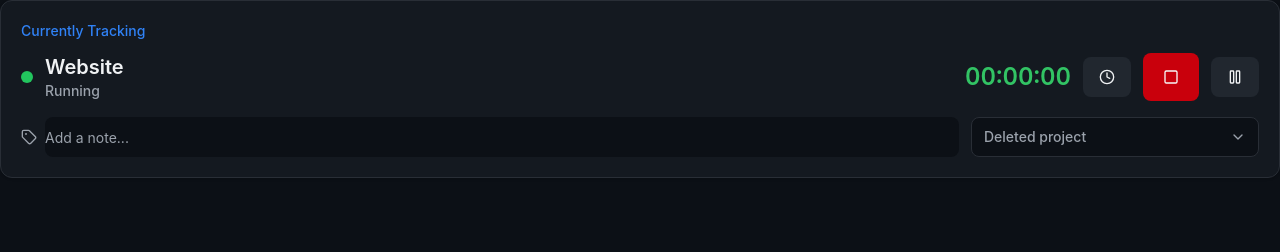
it: CurrentlyTrackingCard – note behaviour › selects the highlighted suggestion with Enter and reopens the list while typing
Type "dai" into the dropdown labelled "Add a note" at point(502, 137), box [45,117,959,157]
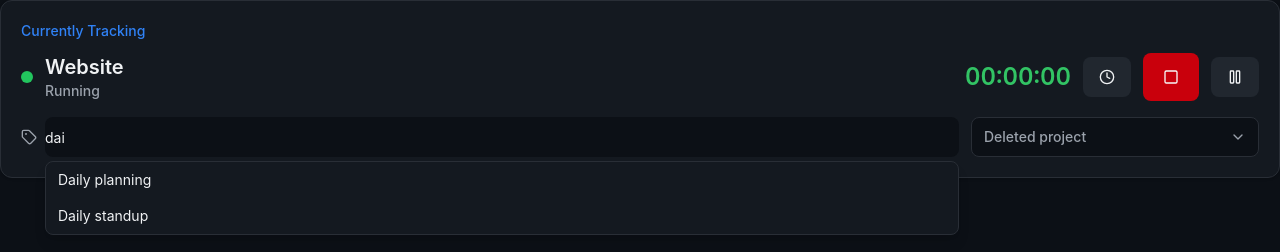
Press Enter in the dropdown named "Add a note", box [45,117,959,157]
Result: the list is shown at [45,161,959,235]
Press ArrowDown in the dropdown named "Add a note", box [45,117,959,157]
Press Enter in the dropdown named "Add a note", box [45,117,959,157]
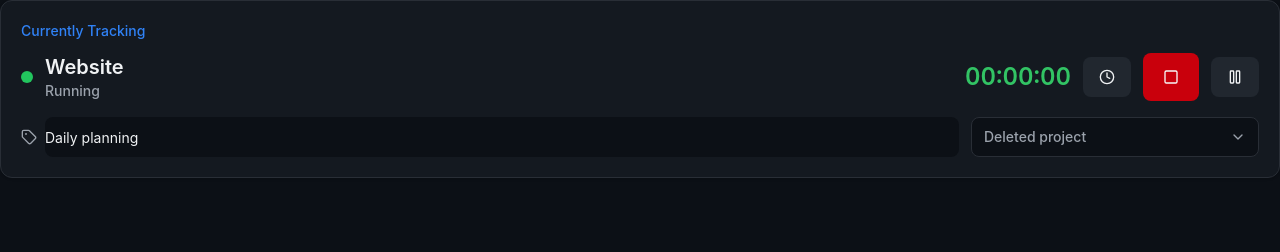
Result: the dropdown named "Add a note" holds "Daily planning"
Result: the list is gone
Replace the text in the dropdown named "Add a note" with "daily" at point(502, 137), box [45,117,959,157]
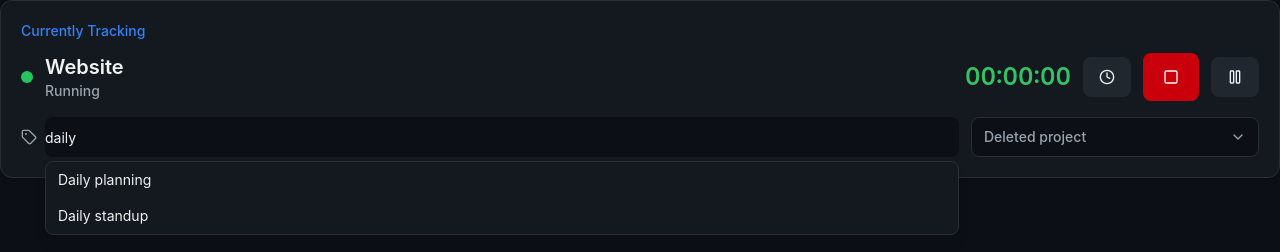
Result: the list is shown at [45,161,959,235]
